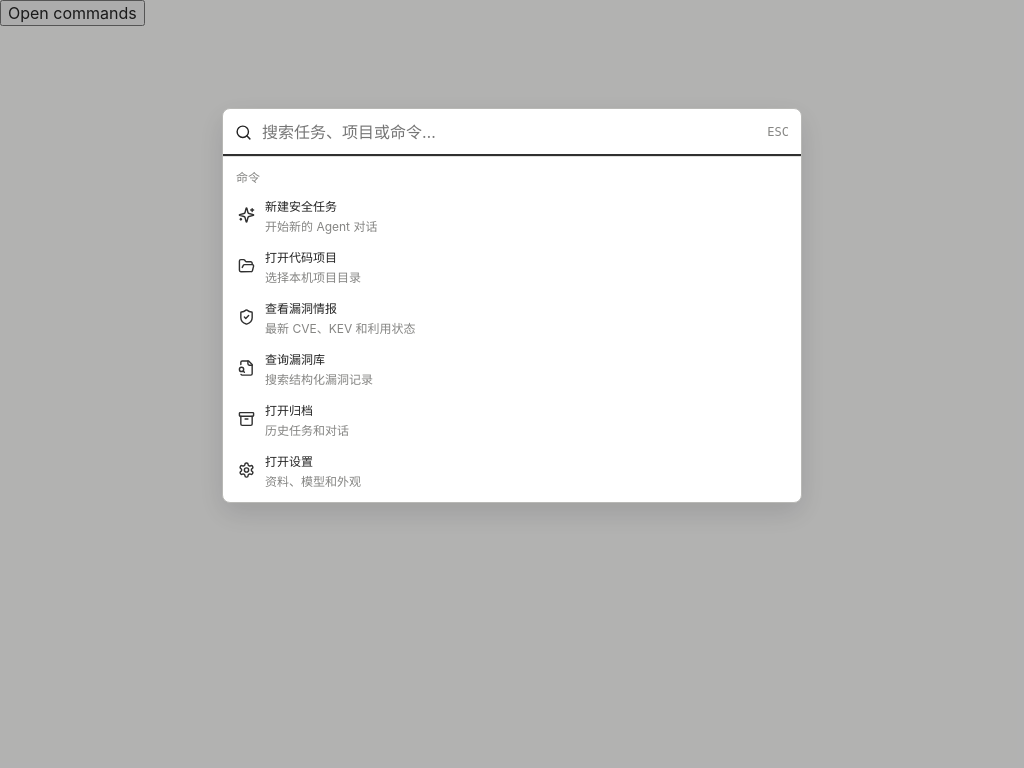
Test: CommandPalette accessibility › opens the selected project on the task page with a ready attachment
The image size is (1024, 768).
Click the button "打开代码项目 选择本机项目目录".
click(301, 257)  # box [229,240,795,292]
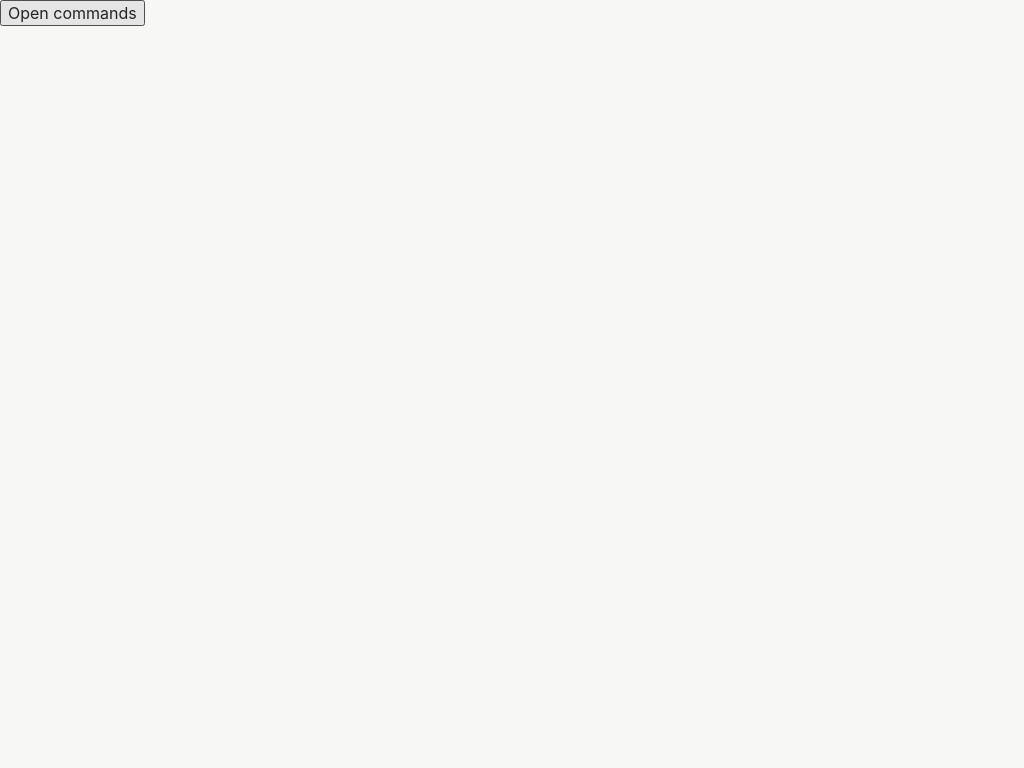
Expected: the label "命令" is gone
